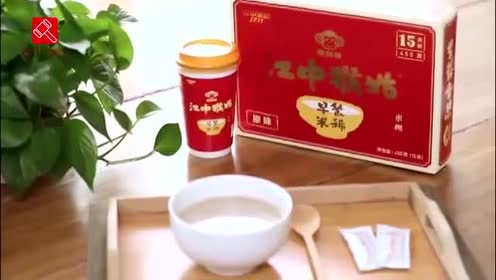box: (236, 1, 453, 176)
cup: (178, 37, 240, 158)
